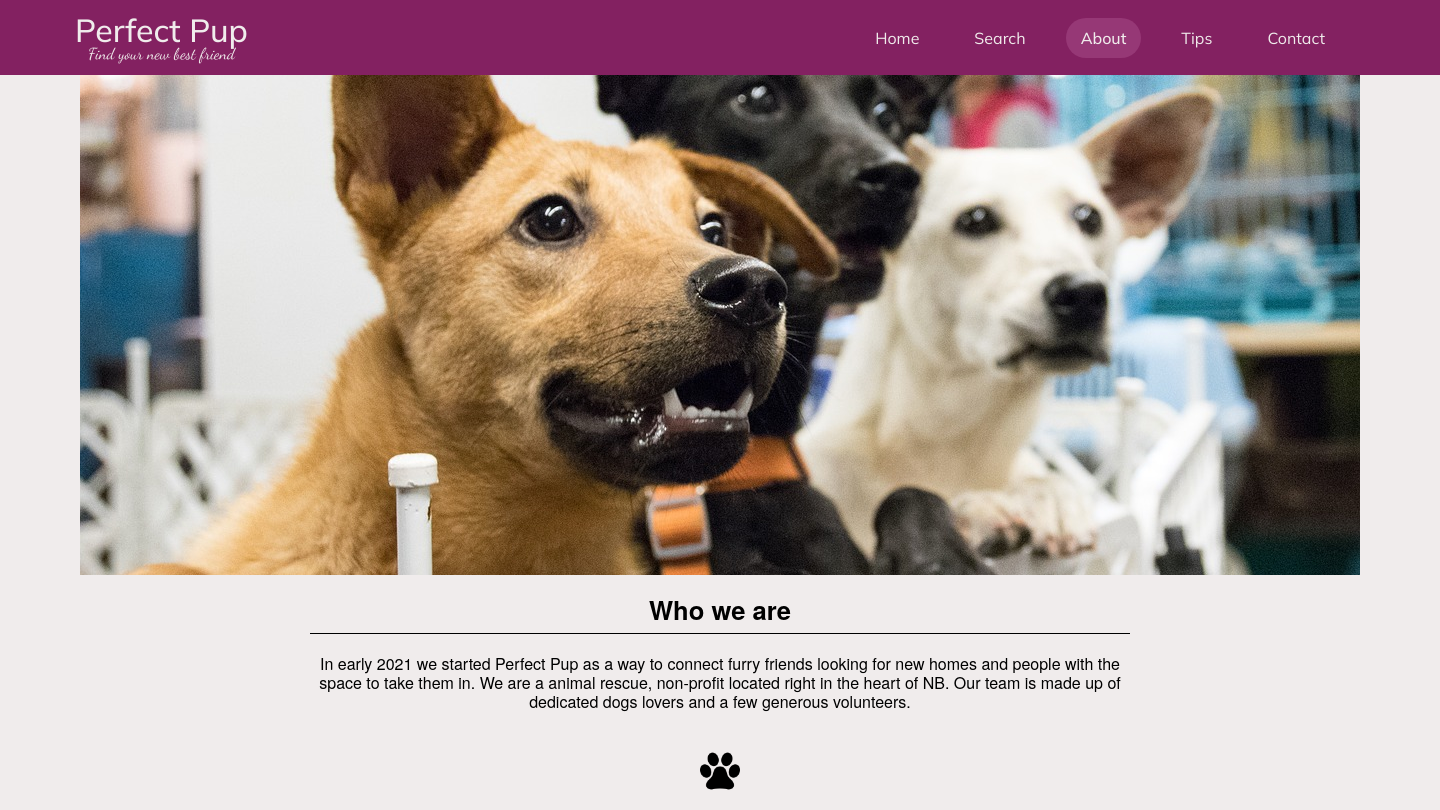
Test case: test tab functionality › Check is about page changes to tips page
Check: the heading "Who we are" is shown, box [310, 597, 1130, 634]
Click the link with test id "tipsNavButton": (1197, 38) [1181, 28, 1212, 48]
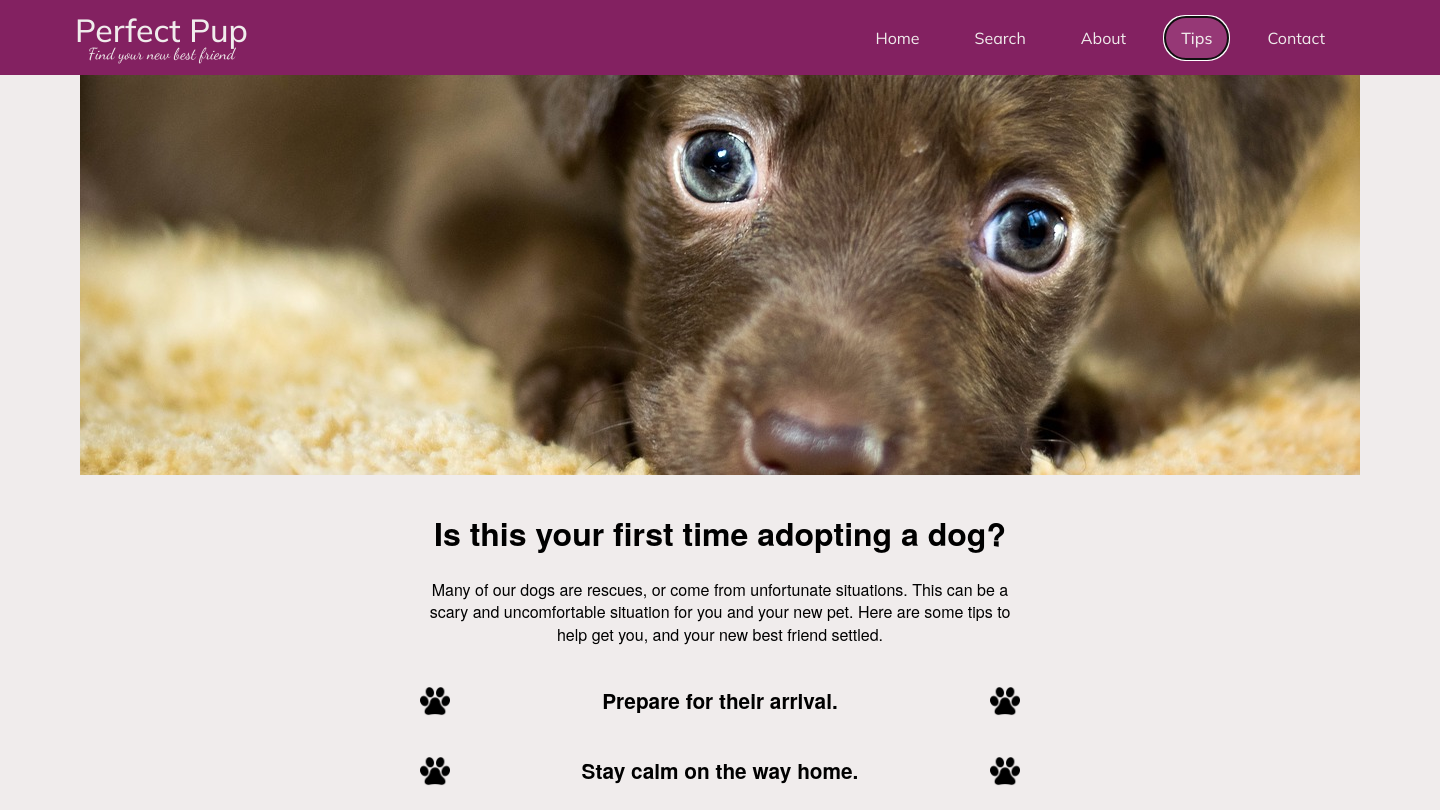
Check: the heading "Who we are" is gone
Check: the heading "Is this your first time adopting a dog?" is shown, box [420, 517, 1020, 549]
